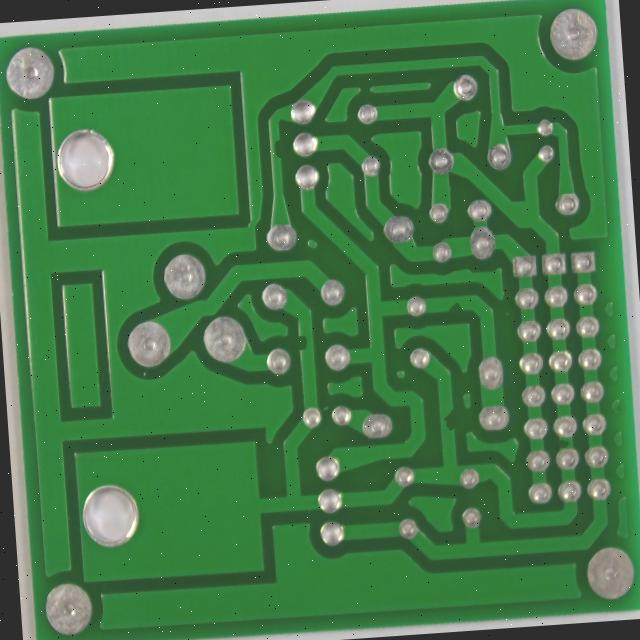mouse_bite: (442, 293, 474, 322), (440, 410, 466, 443), (296, 334, 321, 362), (267, 135, 291, 164), (562, 441, 583, 461)
